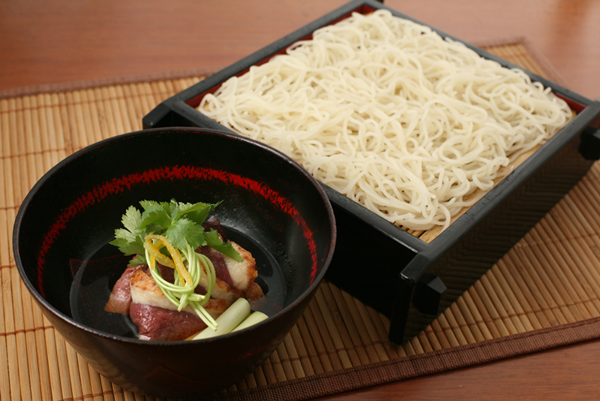Soba: (218, 9, 572, 234)
